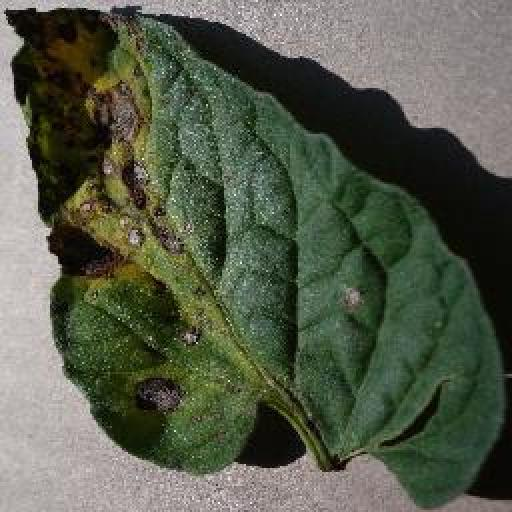Early Blight: (4, 6, 512, 512)
